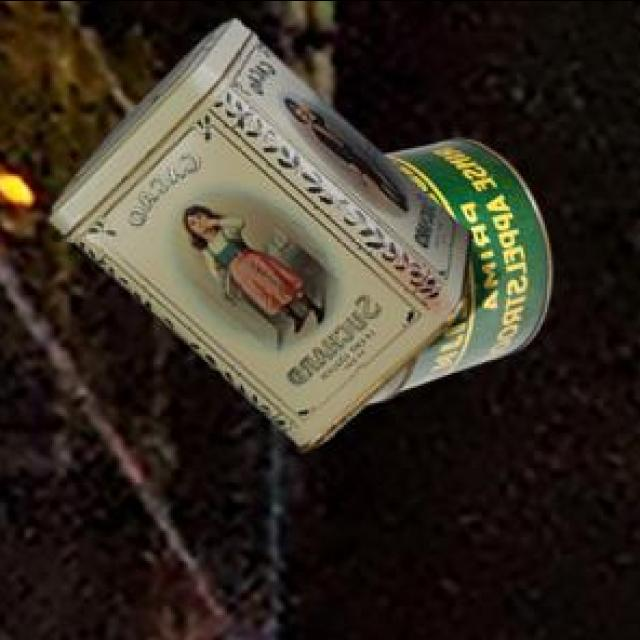logam: (46, 14, 468, 446), (365, 135, 548, 399)
